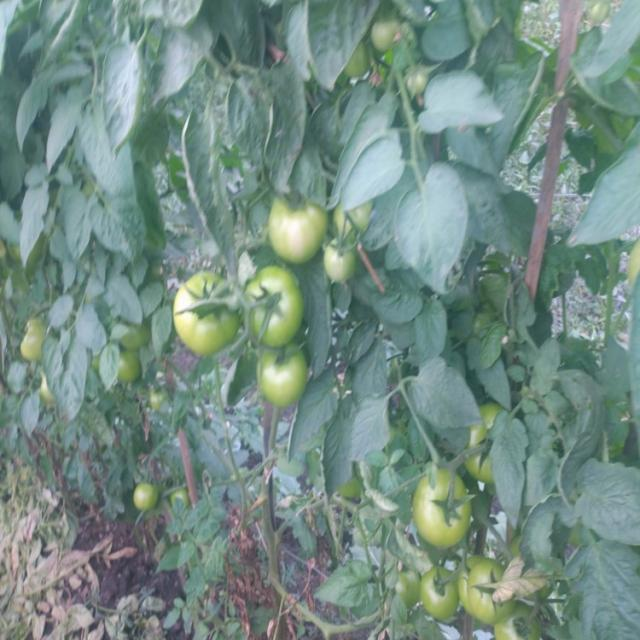tomato: (179, 272, 238, 357), (267, 188, 321, 272), (419, 469, 475, 549), (250, 269, 303, 345), (257, 345, 315, 410), (467, 556, 515, 620), (467, 401, 506, 472), (426, 569, 457, 620), (371, 17, 410, 54), (398, 563, 422, 621), (22, 317, 50, 362), (115, 319, 156, 349), (335, 208, 369, 244), (325, 248, 354, 290), (404, 68, 434, 99), (116, 353, 141, 387), (343, 471, 364, 510), (347, 53, 375, 81), (134, 482, 161, 511), (500, 625, 541, 640), (174, 487, 192, 514), (38, 373, 55, 401), (151, 392, 165, 408)
